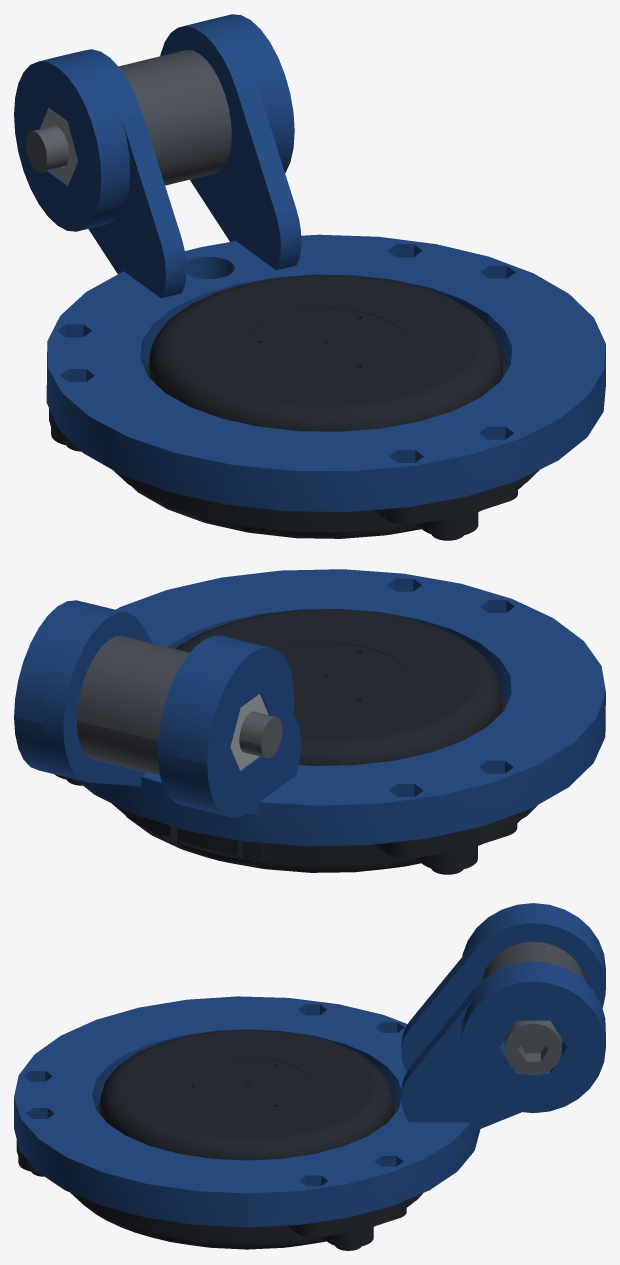
The model's file is .moza_crp_dayton_tt25_fit_check.step.glb.
3 views of the same model, one above another, from view 1: azimuth 30°, elevation 25°; view 2: azimuth 150°, elevation 25°; view 3: azimuth 270°, elevation 25° (orthographic). The views are drawn at different scales.
Parts seen in each view (by area): view 1: o1.1, o1.2.1, o1.3, o1.2.6, o1.5, o1.4; view 2: o1.1, o1.2.1, o1.3, o1.2.6, o1.5, o1.4; view 3: o1.1, o1.2.1, o1.5, o1.3, o1.2.6.
Boxes of the visible parts, x1=… form: o1.1: x1=14, y1=14, x2=605, y2=511; o1.2.1: x1=49, y1=274, x2=539, y2=536; o1.3: x1=118, y1=50, x2=231, y2=185; o1.2.6: x1=131, y1=484, x2=524, y2=538; o1.5: x1=26, y1=125, x2=69, y2=172; o1.4: x1=40, y1=108, x2=77, y2=184; o1.1: x1=14, y1=569, x2=605, y2=846; o1.2.1: x1=54, y1=609, x2=537, y2=870; o1.3: x1=76, y1=636, x2=189, y2=775; o1.2.6: x1=125, y1=815, x2=520, y2=872; o1.5: x1=239, y1=711, x2=282, y2=758; o1.4: x1=230, y1=694, x2=268, y2=770; o1.1: x1=14, y1=903, x2=605, y2=1227; o1.2.1: x1=16, y1=1029, x2=422, y2=1247; o1.5: x1=504, y1=1020, x2=561, y2=1075; o1.3: x1=481, y1=941, x2=584, y2=980; o1.2.6: x1=83, y1=1202, x2=413, y2=1249.
Bounding box in the file's own units: 0.106 × 0.0599 × 0.1345.
